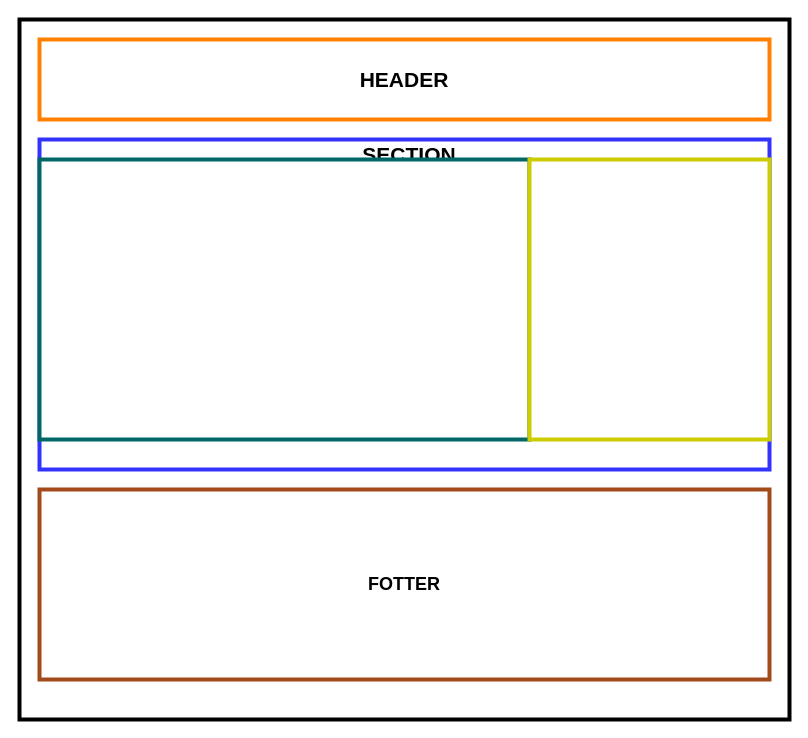
Some shapes in this 808 by 738 pixel diagram are drawn without their labels. Each missing label, with the centre of its shape:
"ARTICLE" goes at (284,299).
"ASIDE" goes at (649,299).
